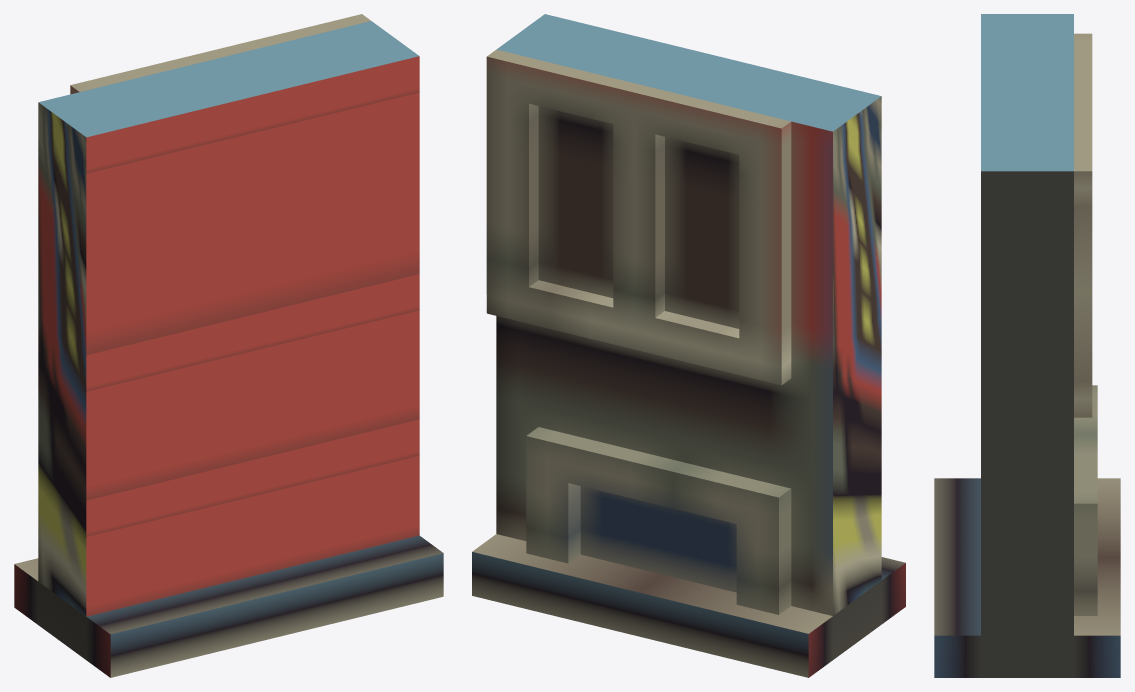
The model's file is casa2_paret_finestra.fbx.
3 renders of one model, left to right at view 1: azimuth 30°, elevation 25°; view 2: azimuth 150°, elevation 25°; view 3: azimuth 270°, elevation 25°, orthographic. The views are drawn at different scales.
Visible parts, largest first — view 1: Wall1.024; view 2: Wall1.024; view 3: Wall1.024.
Boxes of the visible parts, x1,y1,x2,y2 form: Wall1.024: [14, 14, 443, 677]; Wall1.024: [472, 14, 905, 677]; Wall1.024: [934, 14, 1120, 677].
Bounding box in the file's own units: 200 × 300 × 100.
